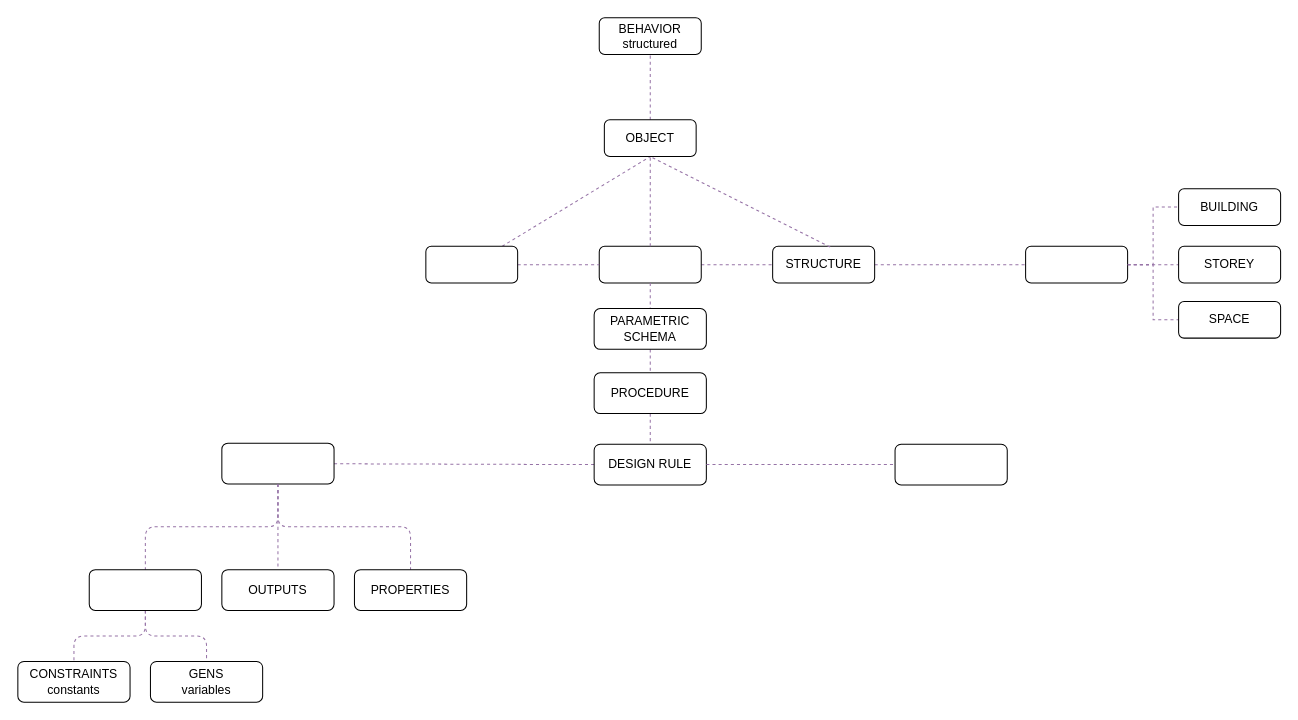
Some shapes in this 1298 by 720 pixel diagram are drawn without their labels. Each missing label, with the centre of its shape:
BEHAVIOR expected: the point at 649,264
DEPENDENCIES: the point at 950,464
FUNCTION: the point at 471,264
INPUTS: the point at 144,589
PARAMETERS: the point at 277,463
ZONE: the point at 1076,264
